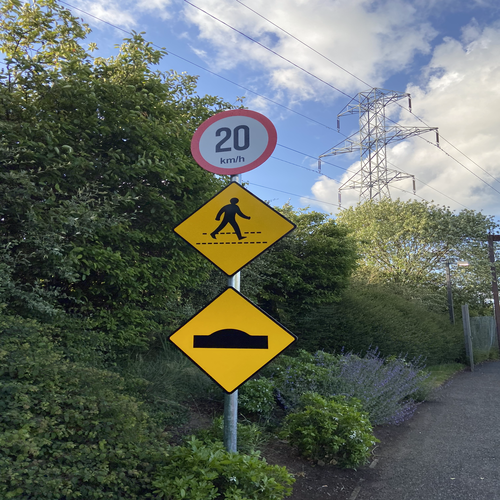Bump Ahead: (165, 284, 299, 396)
Pedestrian: (171, 184, 299, 273)
Speed Limit: (189, 105, 281, 175)
